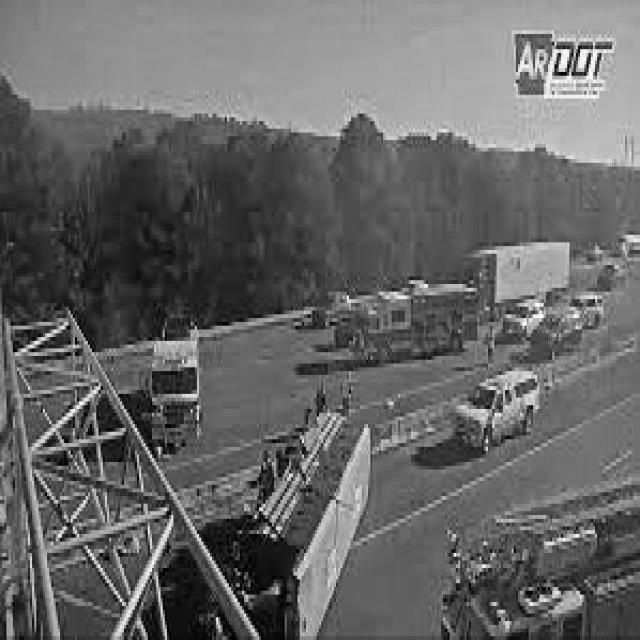accident: (215, 390, 382, 640)
vehicle: (438, 482, 637, 640), (355, 284, 477, 361), (461, 245, 571, 316), (145, 316, 204, 448), (456, 368, 540, 456), (534, 308, 584, 358), (504, 296, 544, 341), (311, 293, 353, 326), (570, 292, 606, 328)
